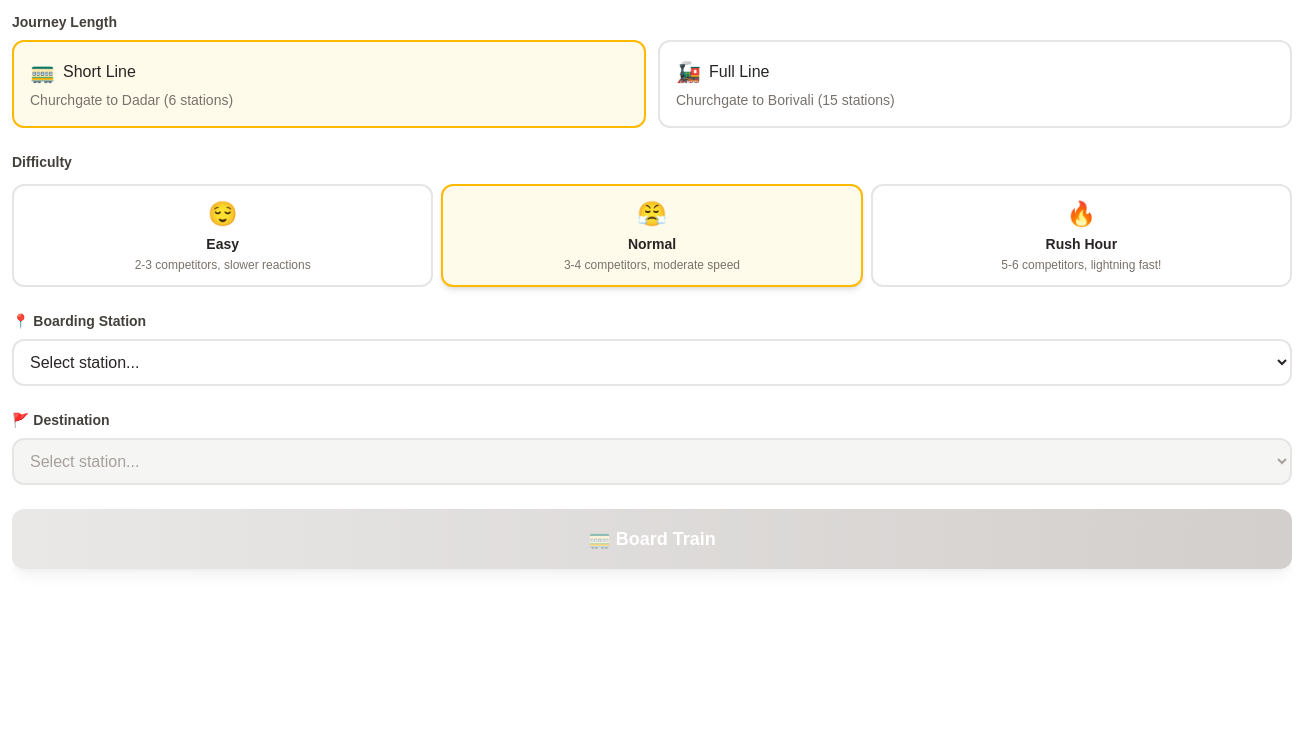
Test: StationSelectForm › button state › enables button when both stations are selected
Step 1. Select "Churchgate" in the dropdown labelled "📍 Boarding Station" → x=652, y=362, box [12,339,1292,386]
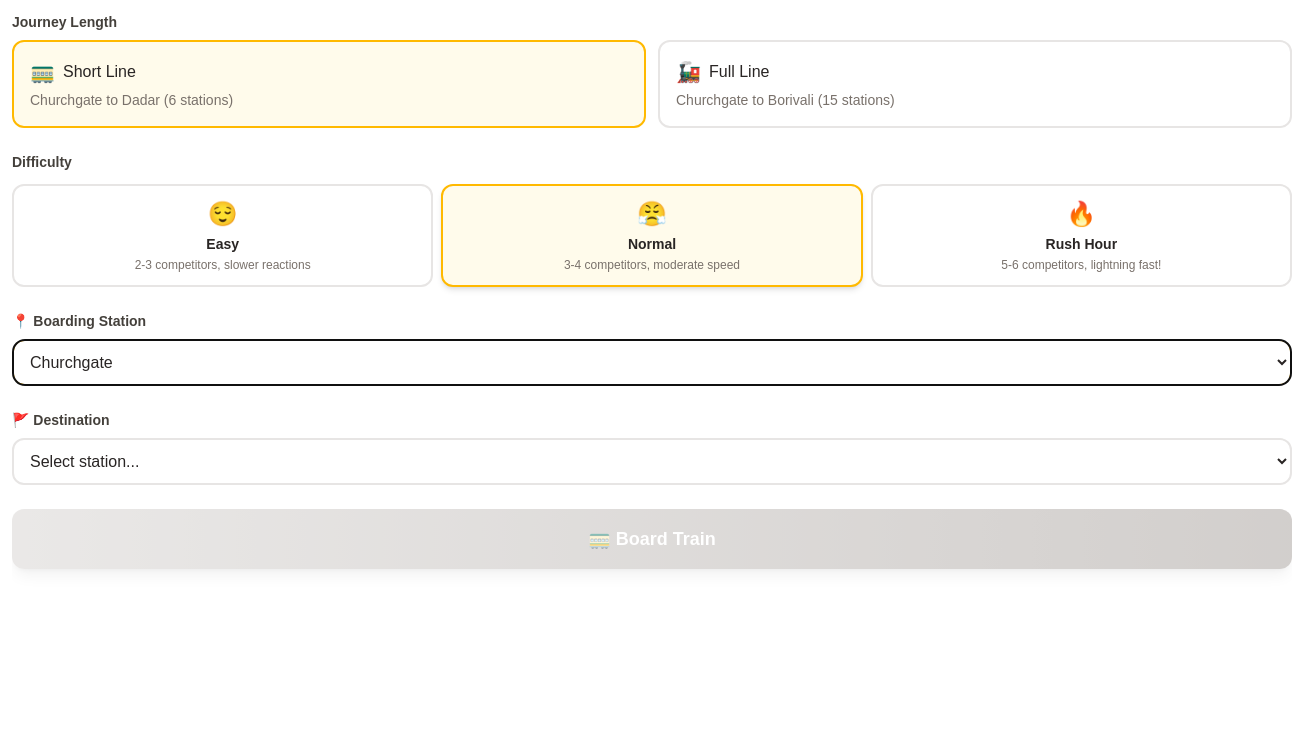
Step 2. Select "Dadar" in the dropdown labelled "🚩 Destination" → x=652, y=462, box [12,438,1292,485]
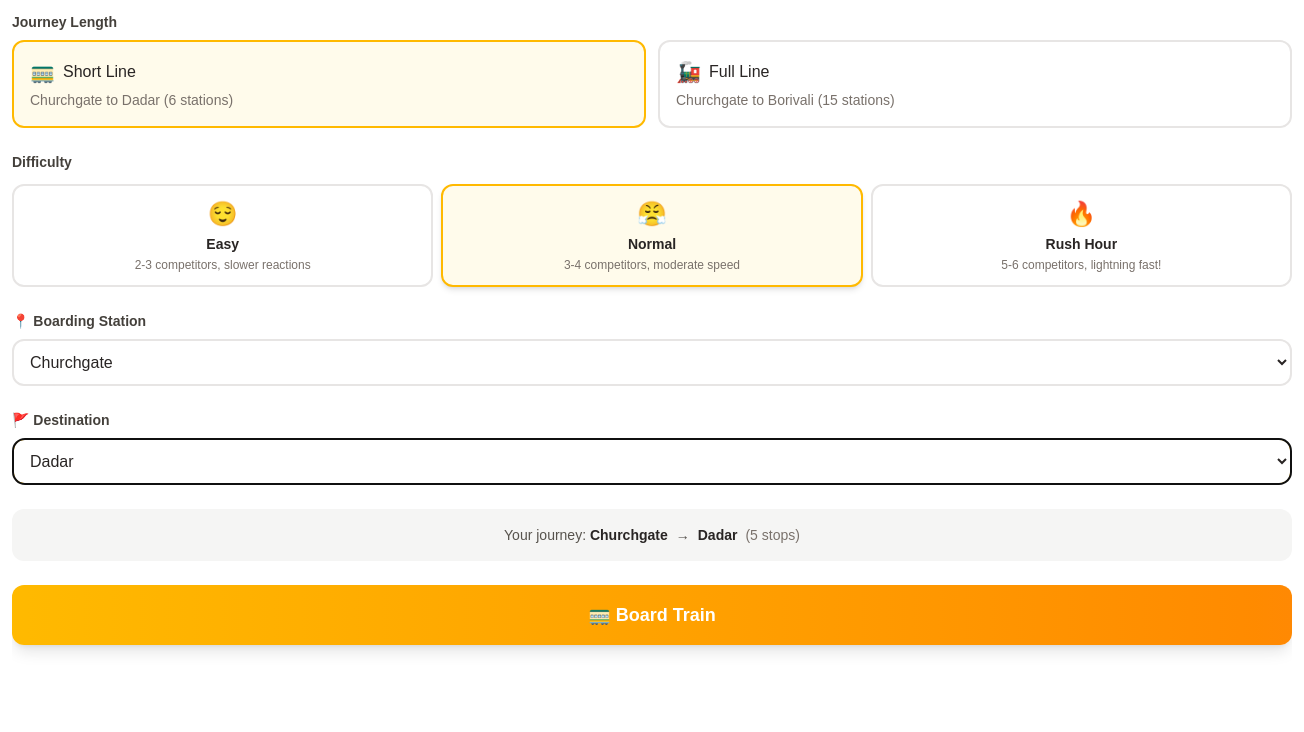
Result: the button "🚃 Board Train" is enabled at [12,585,1292,645]
